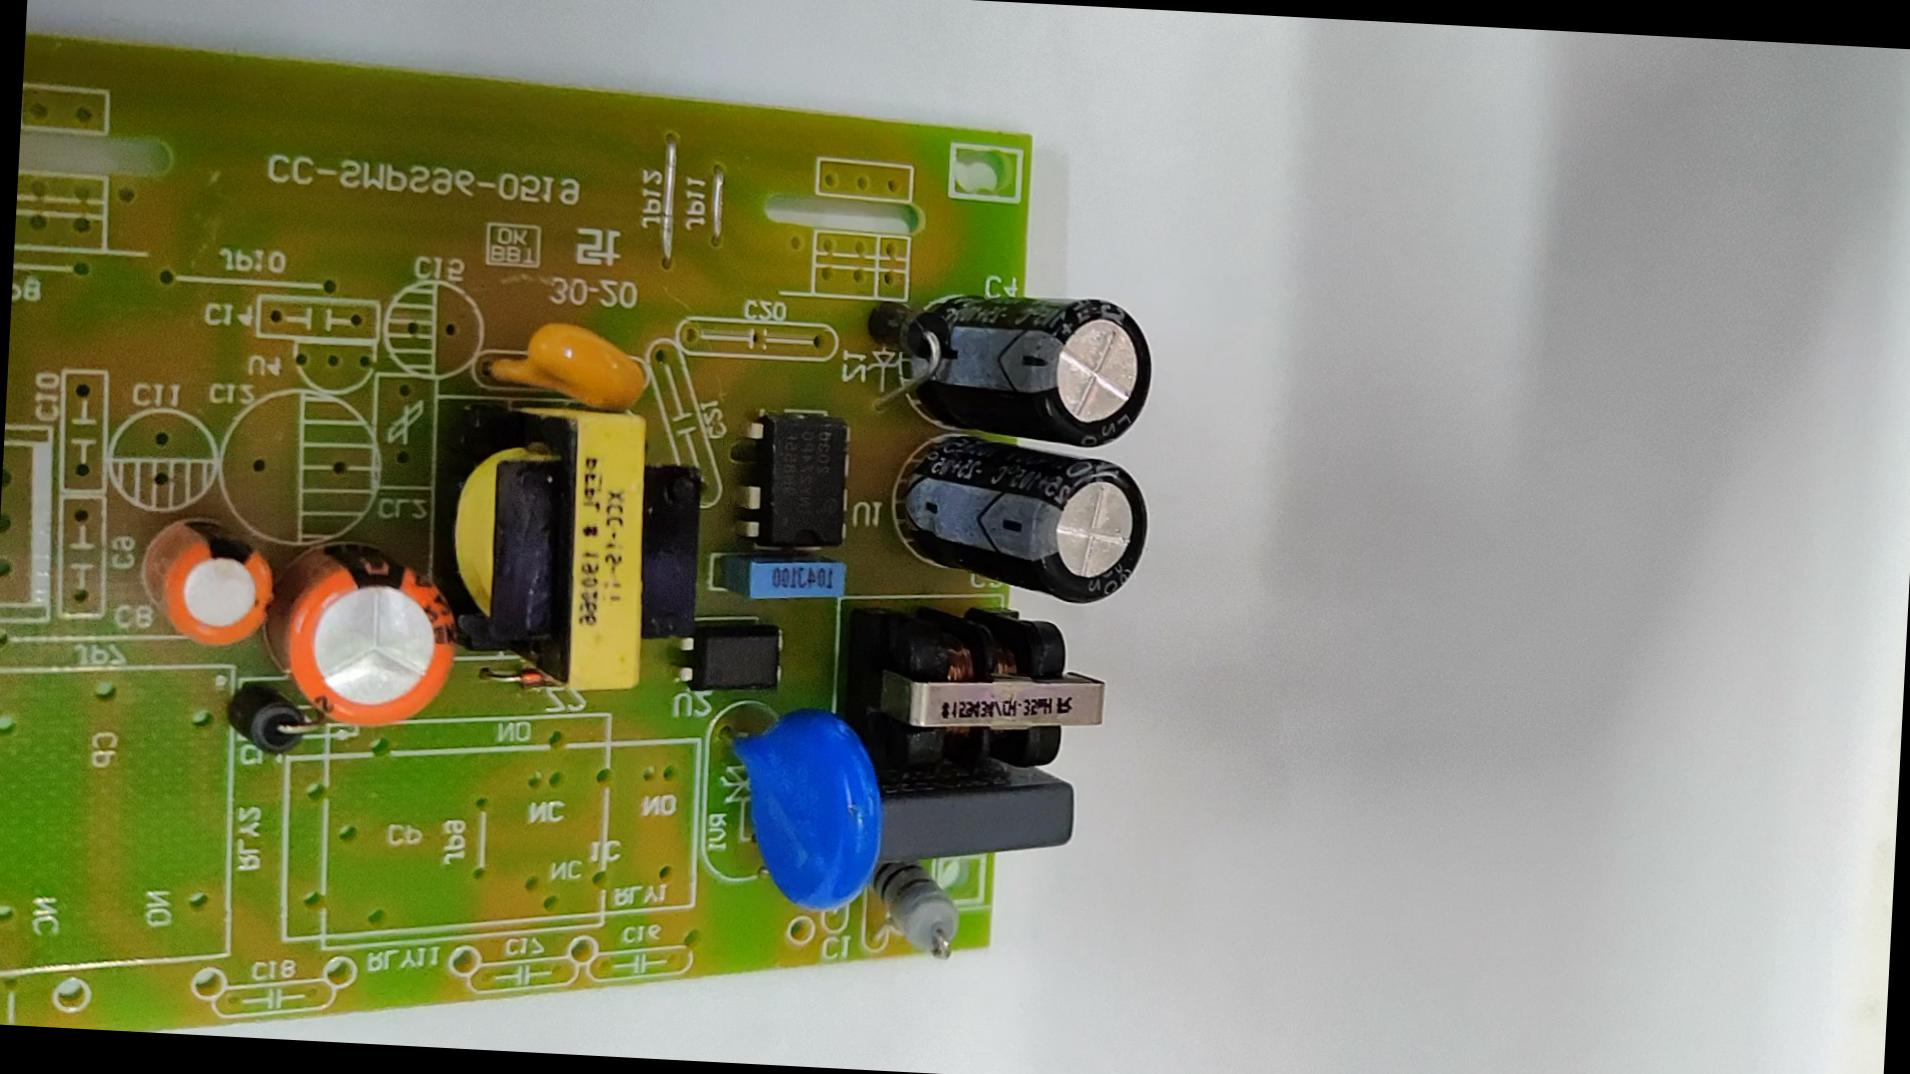Cap1: (260, 521, 468, 740)
Cap2: (129, 505, 283, 662)
Cap3: (883, 431, 1166, 618)
Cap4: (889, 258, 1165, 454)
MOSFET: (728, 403, 866, 563)
Mov: (716, 692, 893, 922)
Resistor: (875, 862, 968, 959)
Transformer: (421, 372, 718, 711), (879, 603, 1122, 787)
